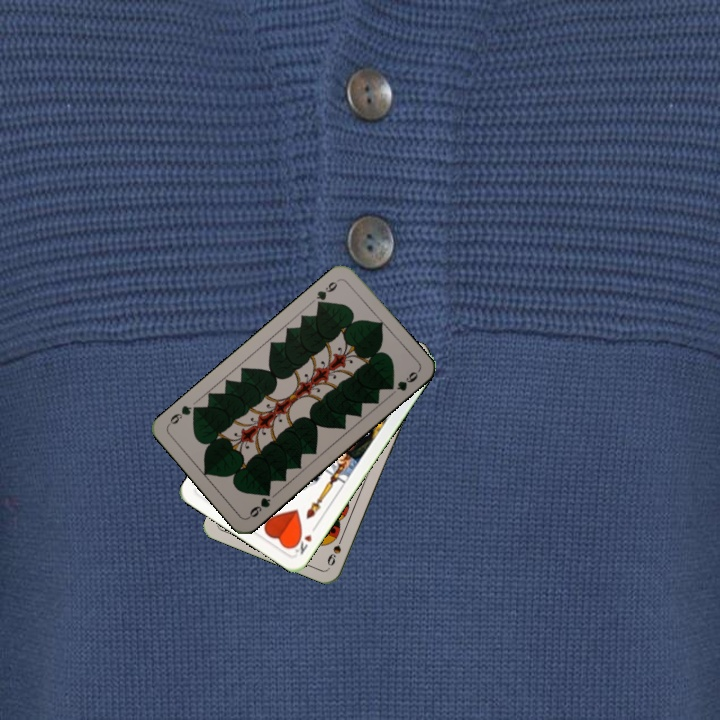G9: (308, 275, 342, 310), (244, 486, 274, 521)
HK: (288, 521, 320, 557)
S9: (323, 530, 346, 568)
